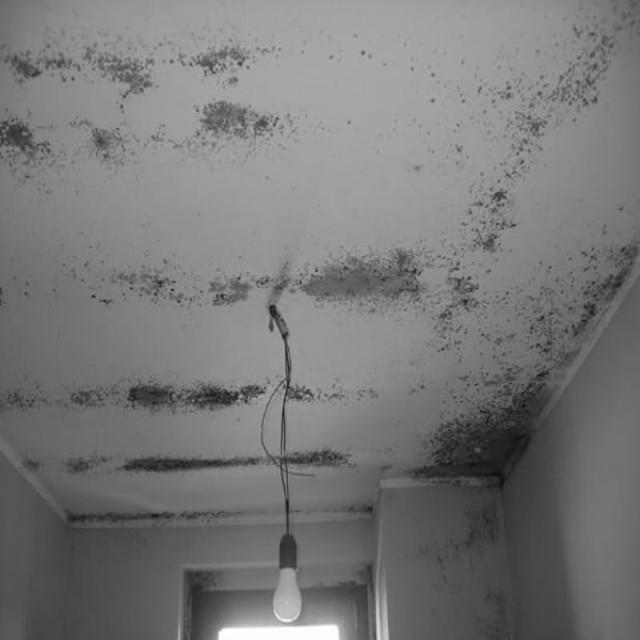stain marks: (1, 26, 638, 91), (0, 99, 639, 160), (61, 248, 612, 302), (419, 497, 506, 639), (421, 366, 500, 477), (1, 379, 261, 412), (443, 164, 531, 248), (20, 452, 266, 475), (430, 308, 596, 330), (432, 338, 570, 360), (290, 378, 382, 409), (64, 508, 237, 524), (505, 364, 544, 411), (287, 450, 363, 470), (184, 568, 226, 590), (328, 502, 374, 518), (505, 421, 529, 447), (182, 592, 192, 638), (361, 565, 374, 589), (338, 578, 356, 586)
